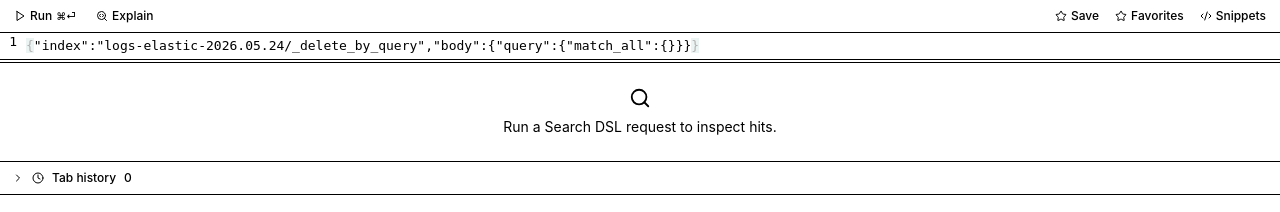
Scenario: QueryTab search route › surfaces destructive Search target rejects through the Search-native error view
Click the button with aria-label "Run query". click: (45, 16)
box: [8,4,82,28]
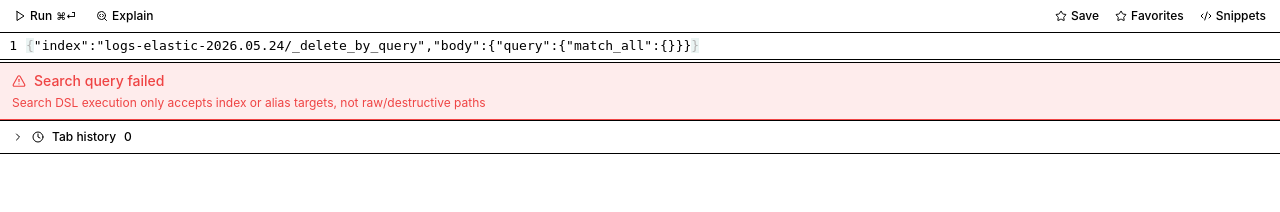
expect the message shows "Search query failed": met, box [34,72,164,89]
expect the message shows "raw/destructive paths": met, box [12,95,486,110]
